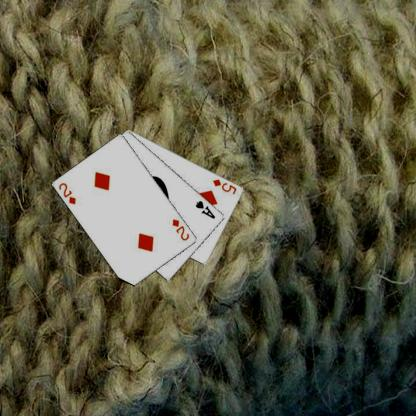2D: (56, 180, 77, 206), (170, 216, 190, 242)
5D: (210, 177, 238, 195)
AS: (193, 198, 217, 220)
